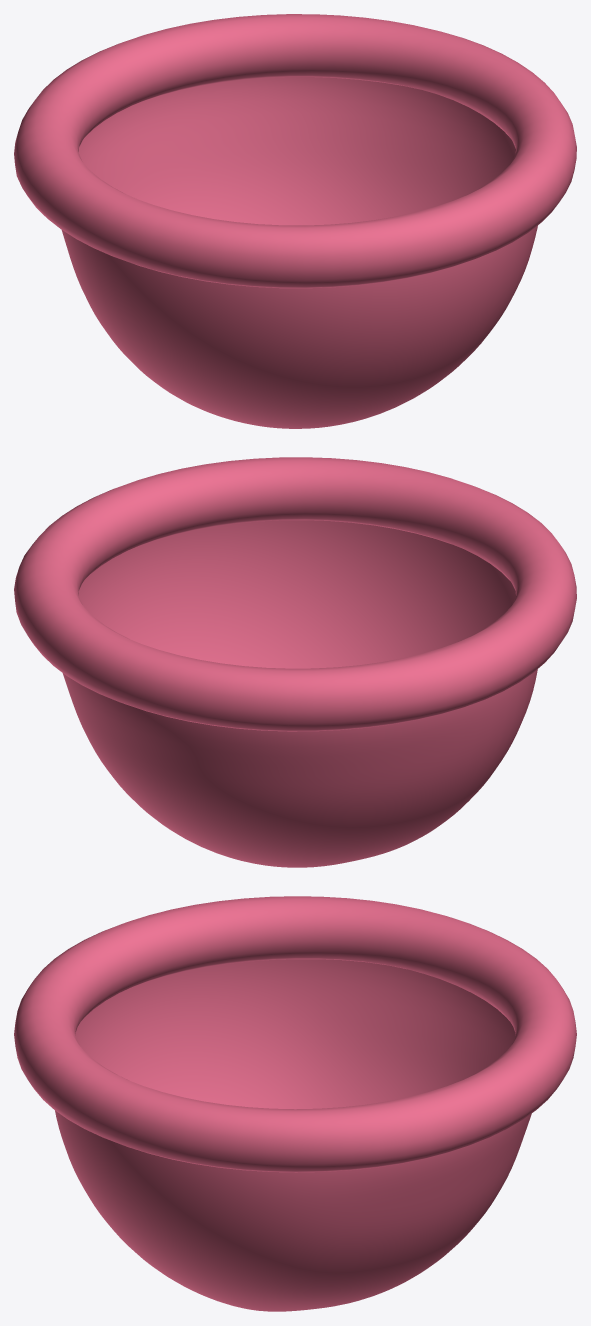
Rendered from Disc.fbx.
The picture shows the model from 3 angles, top to bottom: view 1: azimuth 30°, elevation 25°; view 2: azimuth 150°, elevation 25°; view 3: azimuth 270°, elevation 25°; orthographic projection.
Parts seen in each view (by area): view 1: Sphere; view 2: Sphere; view 3: Sphere.
Part boxes in pixels (left/top/right/bottom): Sphere: left=14, top=14, right=576, bottom=428; Sphere: left=14, top=457, right=576, bottom=867; Sphere: left=14, top=896, right=576, bottom=1311.
Size of the model in its own units: 85.93 by 47.54 by 85.66.
